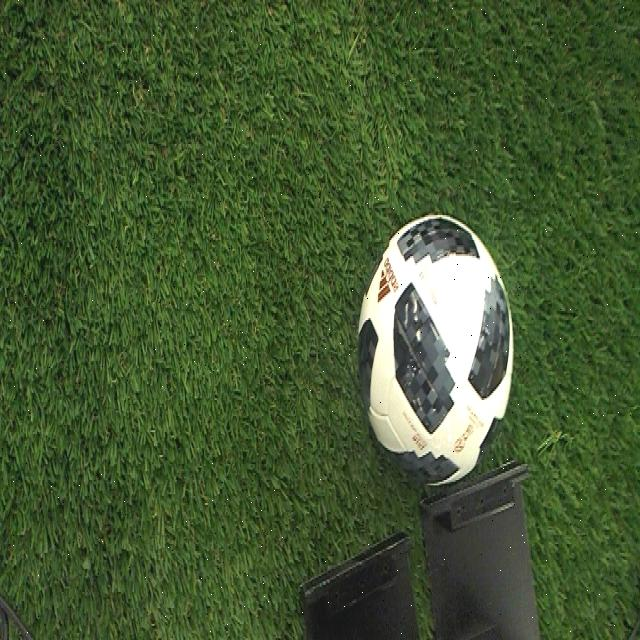ball: (356, 211, 515, 489)
